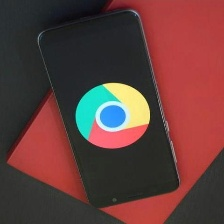phone: (32, 3, 183, 213)
